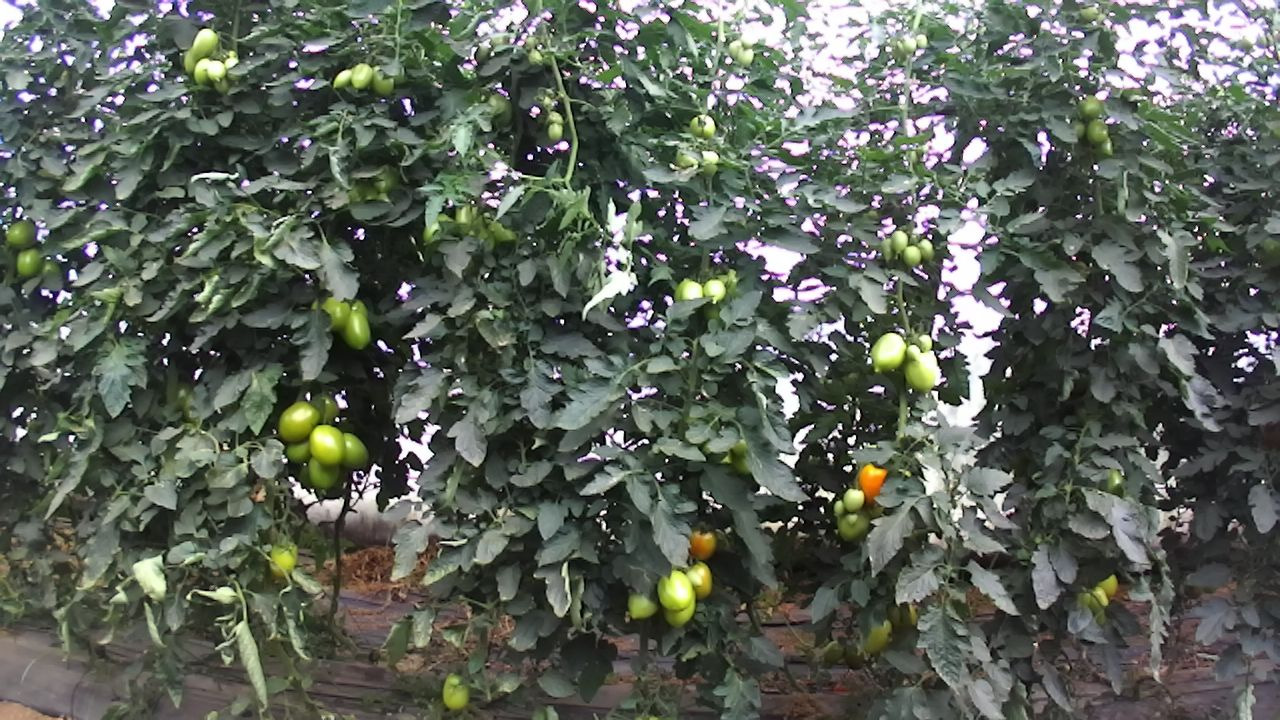tomato: (867, 329, 909, 375), (654, 567, 694, 613), (307, 423, 346, 469), (276, 401, 318, 442), (661, 587, 699, 630), (857, 463, 888, 509), (305, 450, 338, 492), (906, 357, 939, 397), (338, 432, 370, 472), (835, 507, 871, 542), (339, 313, 371, 352), (2, 218, 41, 250), (625, 586, 660, 621), (441, 672, 471, 712), (368, 61, 397, 100), (13, 242, 44, 278), (311, 391, 343, 425), (687, 563, 714, 602), (270, 538, 296, 578), (321, 298, 350, 332), (688, 529, 717, 563), (189, 27, 220, 57), (283, 437, 312, 465), (700, 277, 726, 305), (1085, 117, 1110, 146), (350, 61, 372, 93), (689, 111, 715, 138), (820, 638, 846, 665), (698, 150, 720, 181), (841, 488, 865, 515), (914, 237, 937, 264), (1078, 94, 1101, 120), (345, 297, 370, 320), (901, 243, 922, 270), (330, 66, 353, 90), (193, 57, 212, 86), (205, 60, 225, 85), (889, 229, 908, 254), (681, 281, 702, 301), (547, 120, 565, 142), (917, 333, 934, 353), (906, 342, 921, 360), (845, 512, 860, 527), (833, 499, 844, 518)
